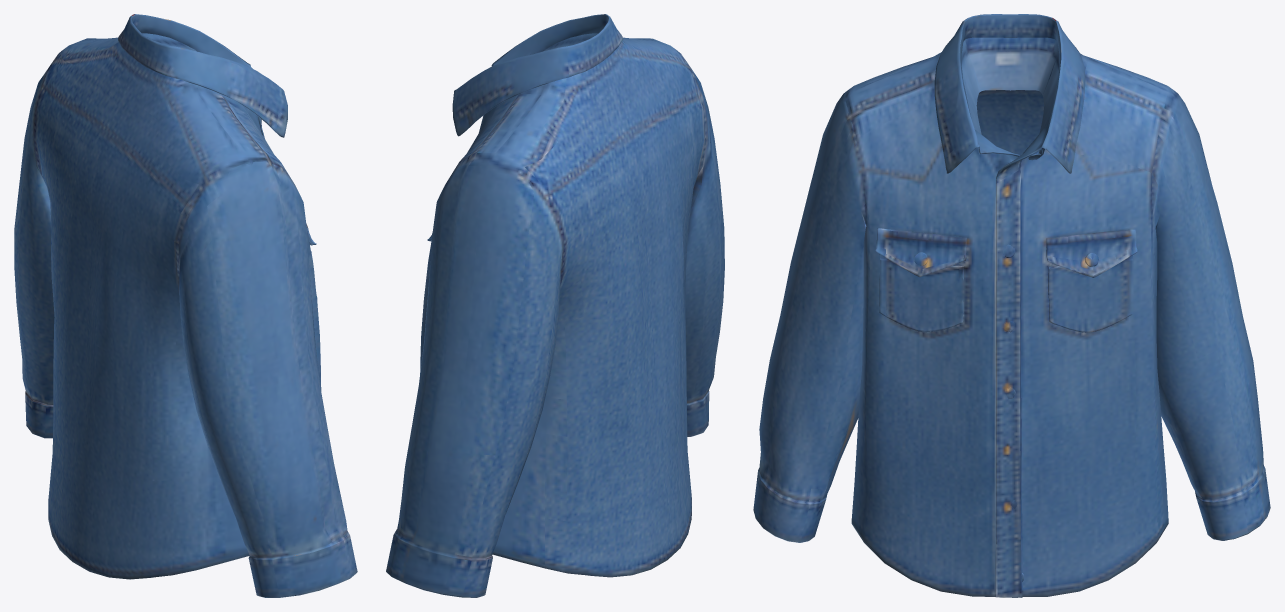
File: camisa_jeans_azul_manga_longa.glb
3 renders of one model, left to right at view 1: azimuth 30°, elevation 25°; view 2: azimuth 150°, elevation 25°; view 3: azimuth 270°, elevation 25°, orthographic.
Visible parts, largest first — view 1: camisa_jeans_azul_manga_longa; view 2: camisa_jeans_azul_manga_longa; view 3: camisa_jeans_azul_manga_longa.
Part boxes in pixels (x1,y1,x2,y2): camisa_jeans_azul_manga_longa: [14, 14, 357, 597]; camisa_jeans_azul_manga_longa: [386, 14, 724, 597]; camisa_jeans_azul_manga_longa: [753, 14, 1270, 597].
Size of the model in its own units: 0.1719 by 0.3691 by 0.3369.
Materials: 1 (1 with a texture image).
